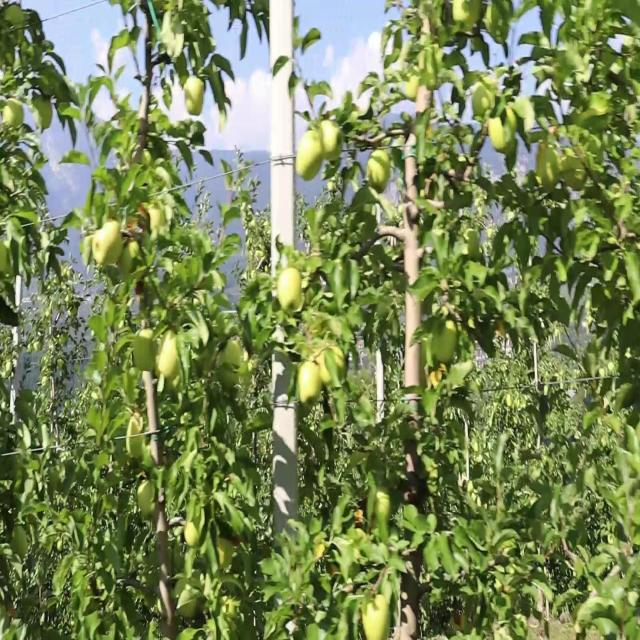apple: (488, 106, 518, 156), (296, 135, 324, 185), (96, 220, 123, 268), (432, 319, 460, 364), (156, 334, 183, 377), (364, 597, 391, 639), (368, 149, 392, 196), (300, 362, 323, 409), (320, 348, 347, 388), (280, 270, 303, 316), (320, 120, 343, 162), (184, 78, 207, 119), (452, 7, 486, 34), (488, 7, 512, 44), (136, 334, 156, 373), (32, 99, 54, 132), (140, 483, 158, 521), (156, 583, 175, 619), (4, 99, 24, 133), (400, 604, 418, 639), (228, 341, 248, 372), (164, 369, 185, 396), (124, 241, 141, 274), (184, 519, 202, 548), (376, 490, 392, 521), (216, 540, 233, 569), (180, 590, 197, 619), (92, 234, 103, 268), (404, 78, 420, 101)
